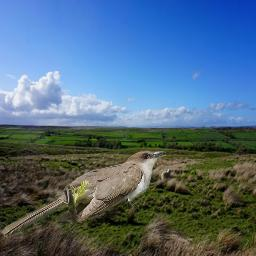Cuckoo: (1, 149, 166, 237)
